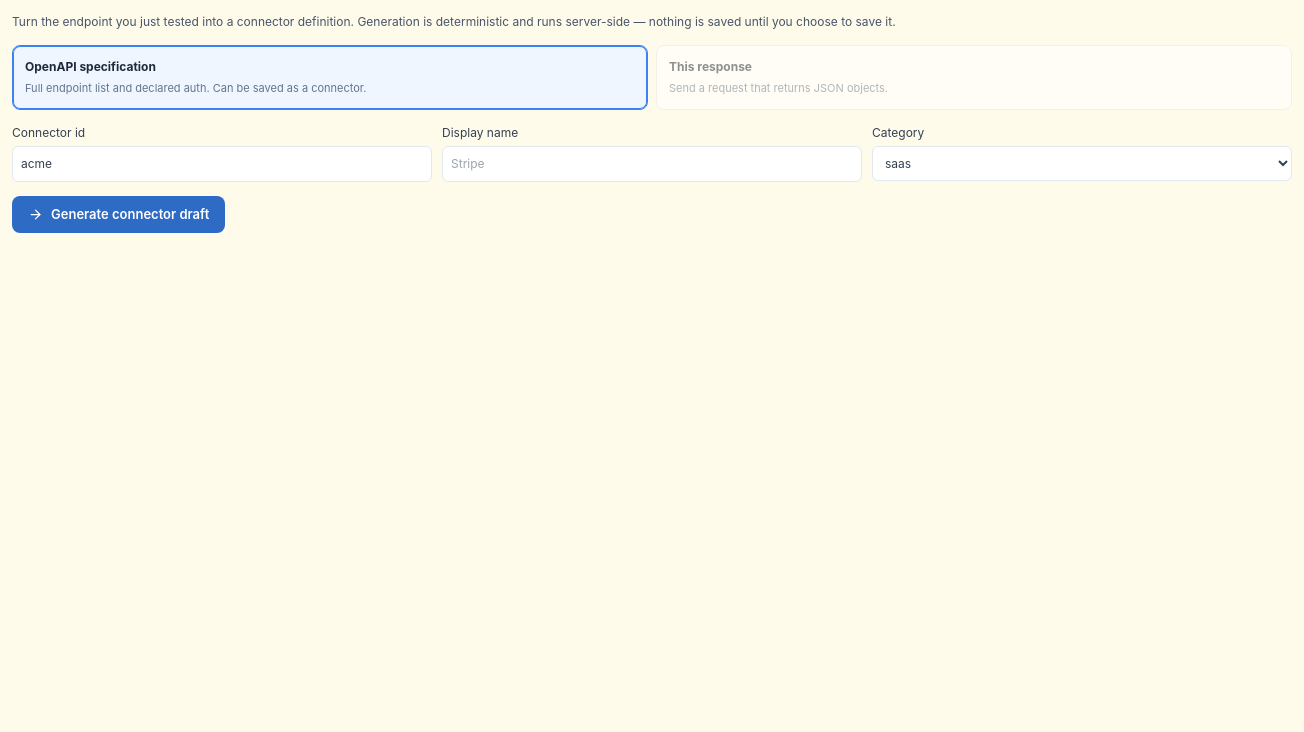
Test case: connector draft step › uses the gallery source url when no spec text was pasted
Click the button "Generate connector draft" at (119, 214), box [12, 196, 225, 233]
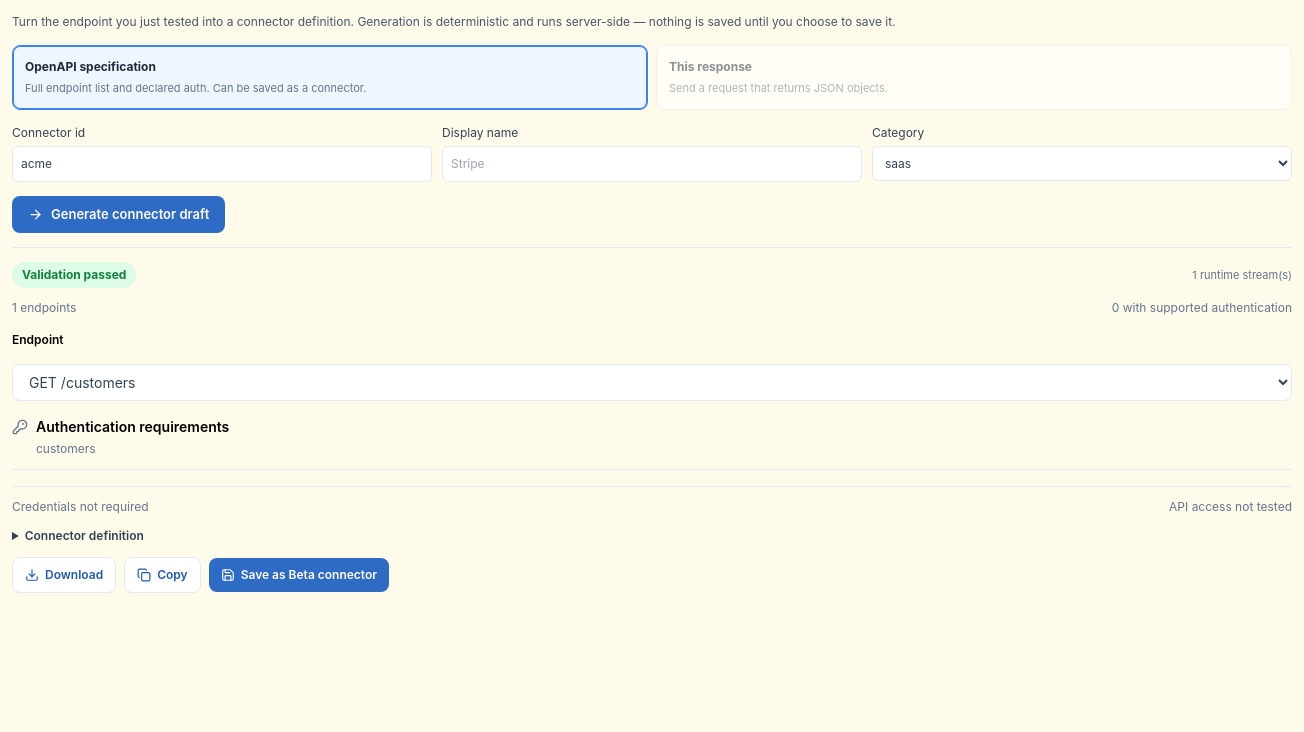
Expected: the text "Validation passed" is shown, [12, 262, 136, 288]
